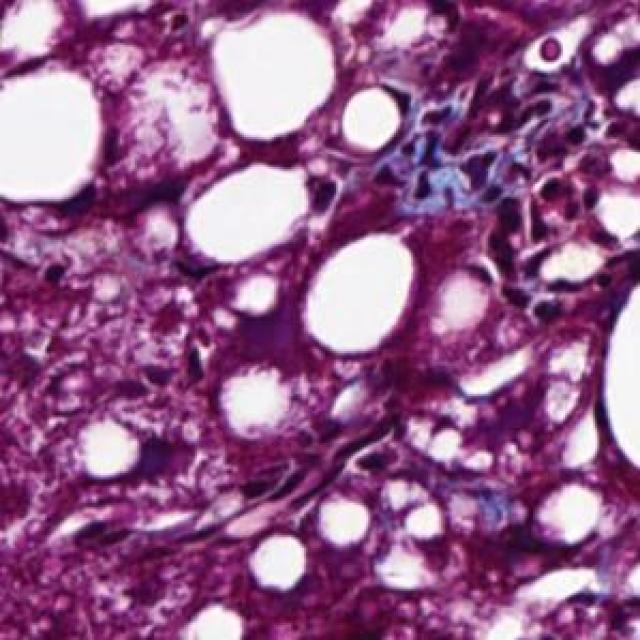inflammation: (390, 86, 570, 220), (456, 190, 595, 330)
